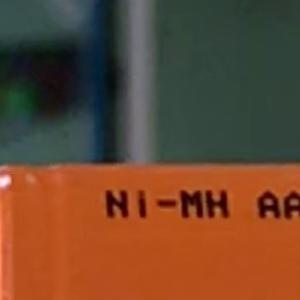NI-MH: (96, 181, 239, 227)
